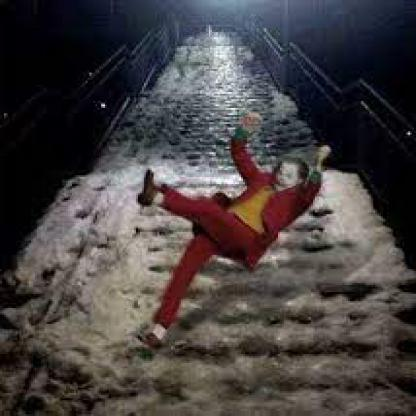Fall_Down: (138, 109, 334, 346)
